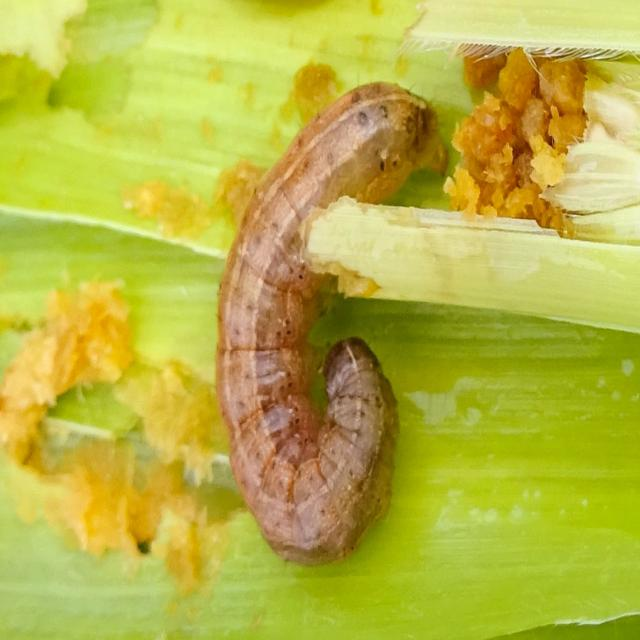Fall-armyworm: (213, 81, 454, 578)
